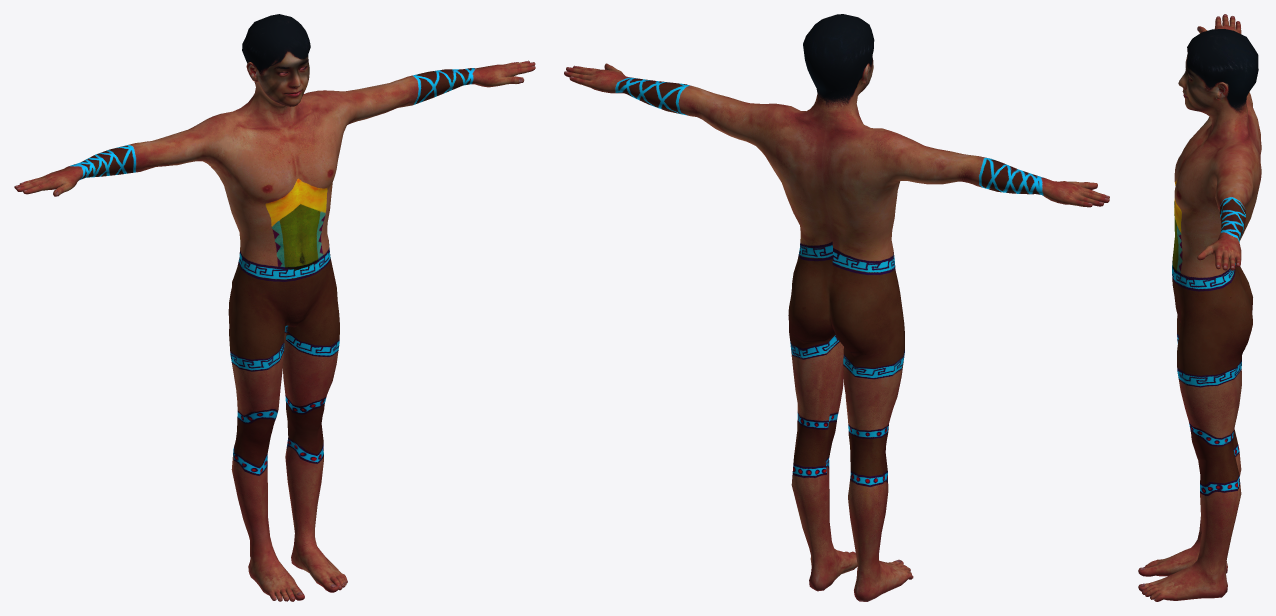
File: guerrero_a.obj
The picture shows the model from 3 angles, left to right: view 1: azimuth 30°, elevation 25°; view 2: azimuth 150°, elevation 25°; view 3: azimuth 270°, elevation 25°; orthographic projection. The views are drawn at different scales.
Parts seen in each view (by area): view 1: Body; view 2: Body; view 3: Body.
Part boxes in pixels (<box>): Body: <box>14,14,535,601</box>; Body: <box>564,14,1109,601</box>; Body: <box>1138,14,1261,601</box>.
Size of the model in its own units: 1.75 by 1.77 by 0.359.
1 material, 1 textured.
